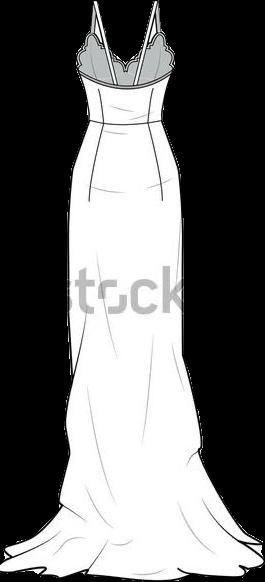Bodice: (76, 0, 174, 124)
Hemline: (0, 536, 264, 581)
Neckline: (75, 68, 171, 91)
Skirt: (0, 121, 262, 579)
Waistline: (87, 117, 168, 125)
